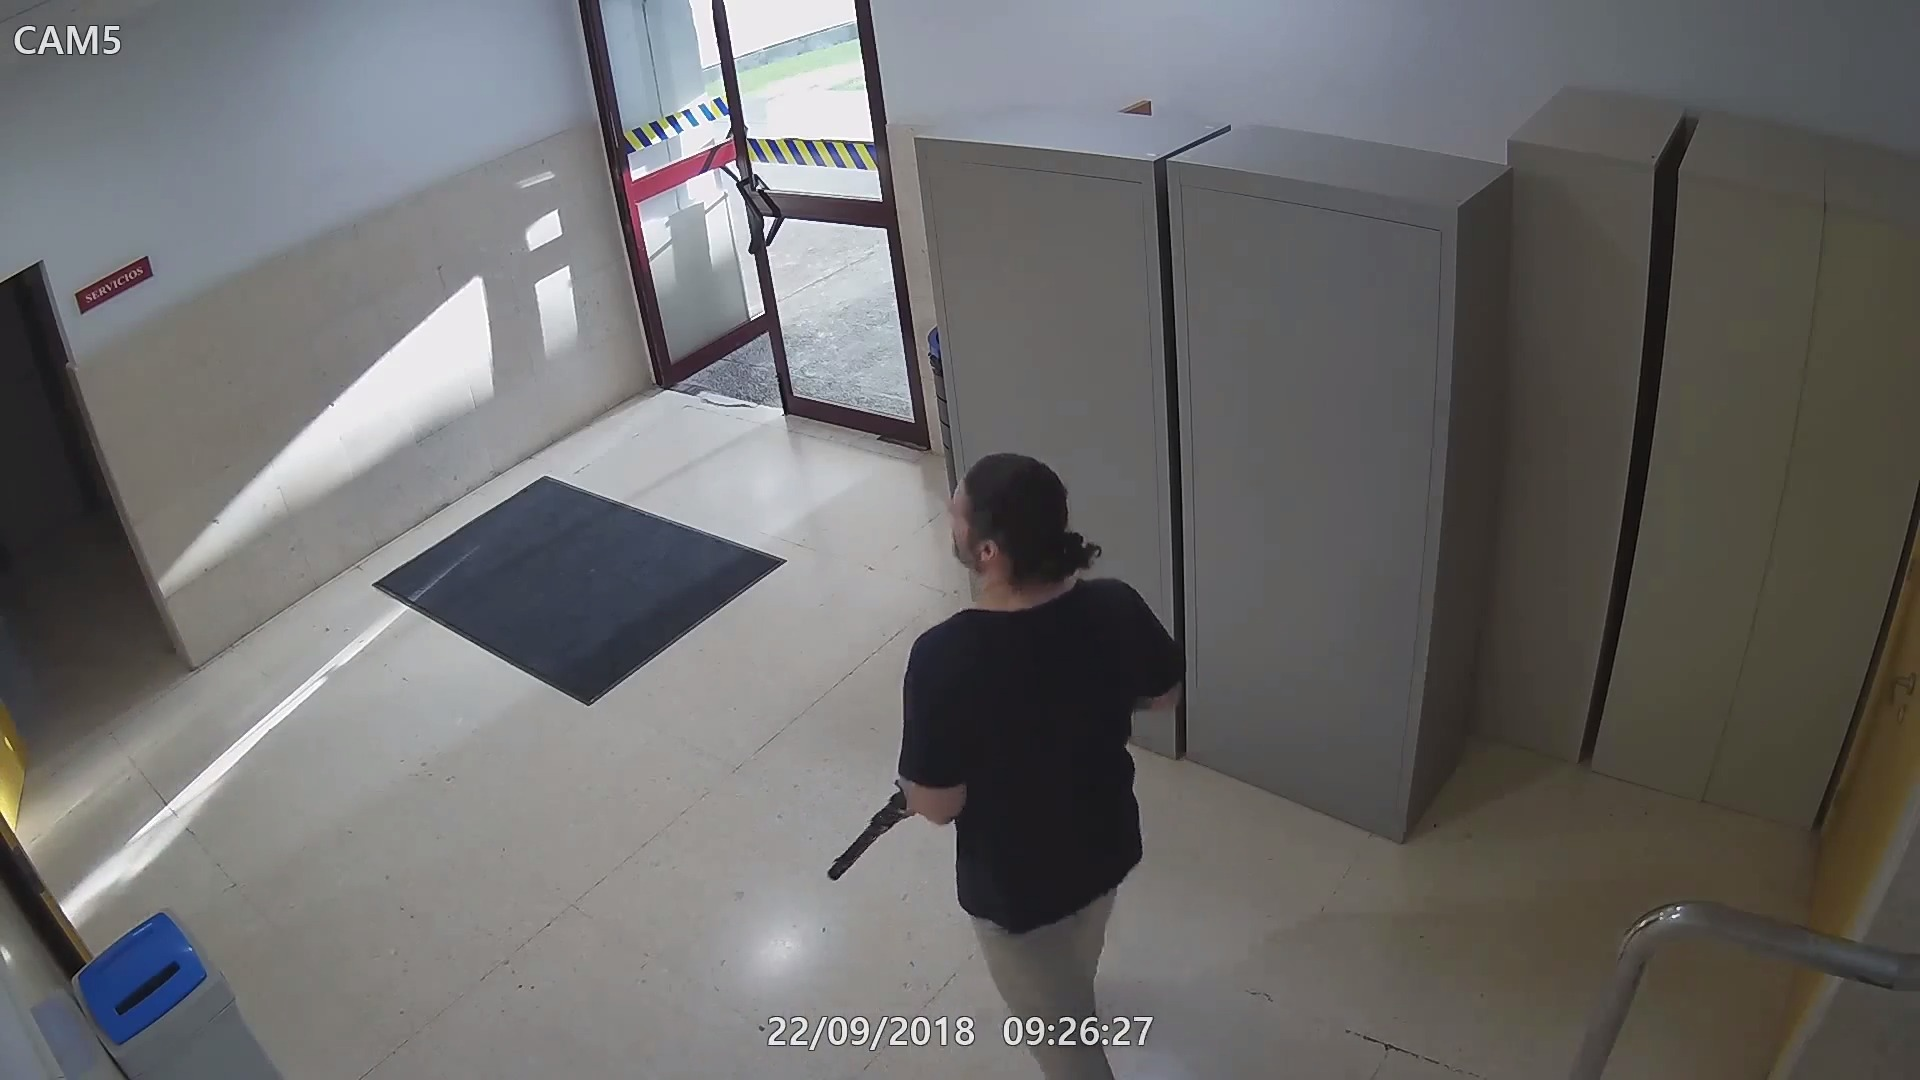rifle: (819, 786, 922, 887)
